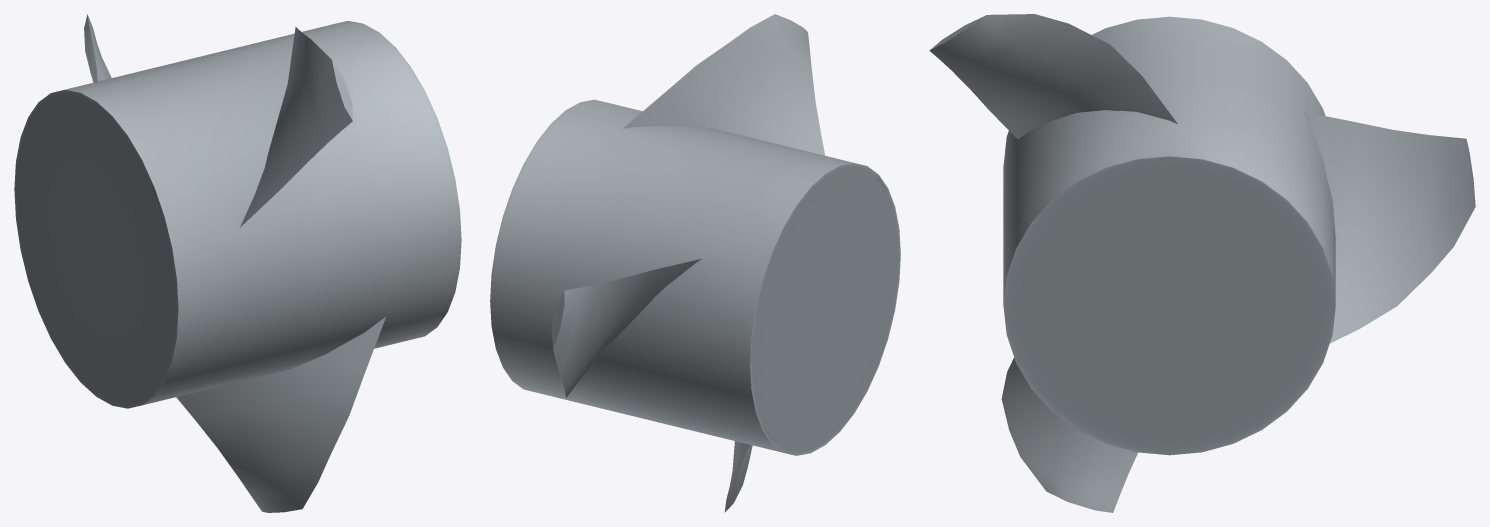
The model's file is prop.dae.
The picture shows the model from 3 angles, left to right: view 1: azimuth 30°, elevation 25°; view 2: azimuth 150°, elevation 25°; view 3: azimuth 270°, elevation 25°; orthographic projection. The views are drawn at different scales.
Parts seen in each view (by area): view 1: Propeller0061; view 2: Propeller0061; view 3: Propeller0061.
Boxes of the visible parts, bbox=[...] form: Propeller0061: bbox=[14, 14, 461, 512]; Propeller0061: bbox=[490, 14, 900, 512]; Propeller0061: bbox=[929, 14, 1475, 512].
Bounding box in the file's own units: 4.74 × 7.83 × 7.97.
1 material, 1 textured.
